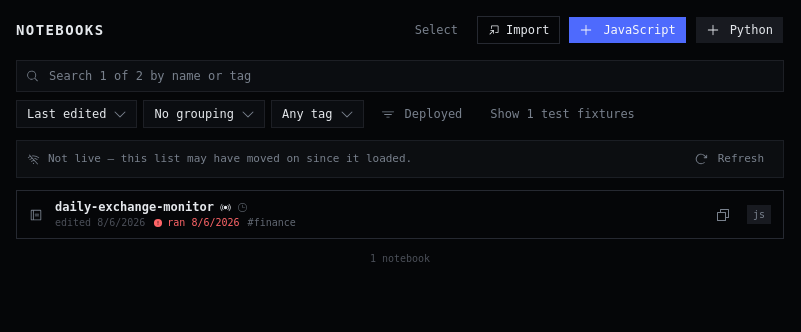
Scenario: the fixtures I left in your workspace › are hidden, not deleted — asking brings it straight back
This screenshot has width=801, height=332.
Check: the text "daily-exchange-monitor" is shown, box [55, 199, 214, 215]
Click the button "Show 1 test fixtures" at (563, 114), box [479, 100, 646, 128]
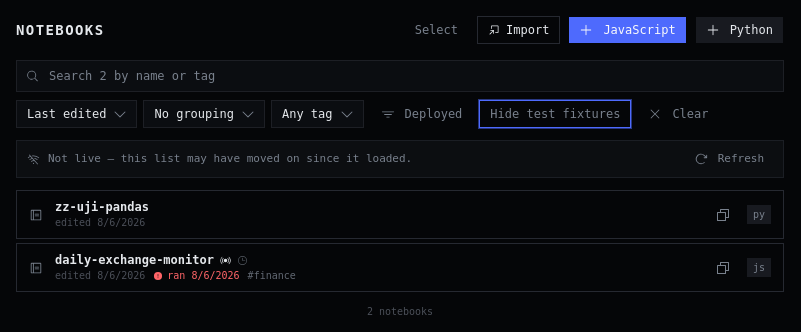
Check: the text "zz-uji-pandas" is shown, box [55, 199, 149, 215]
